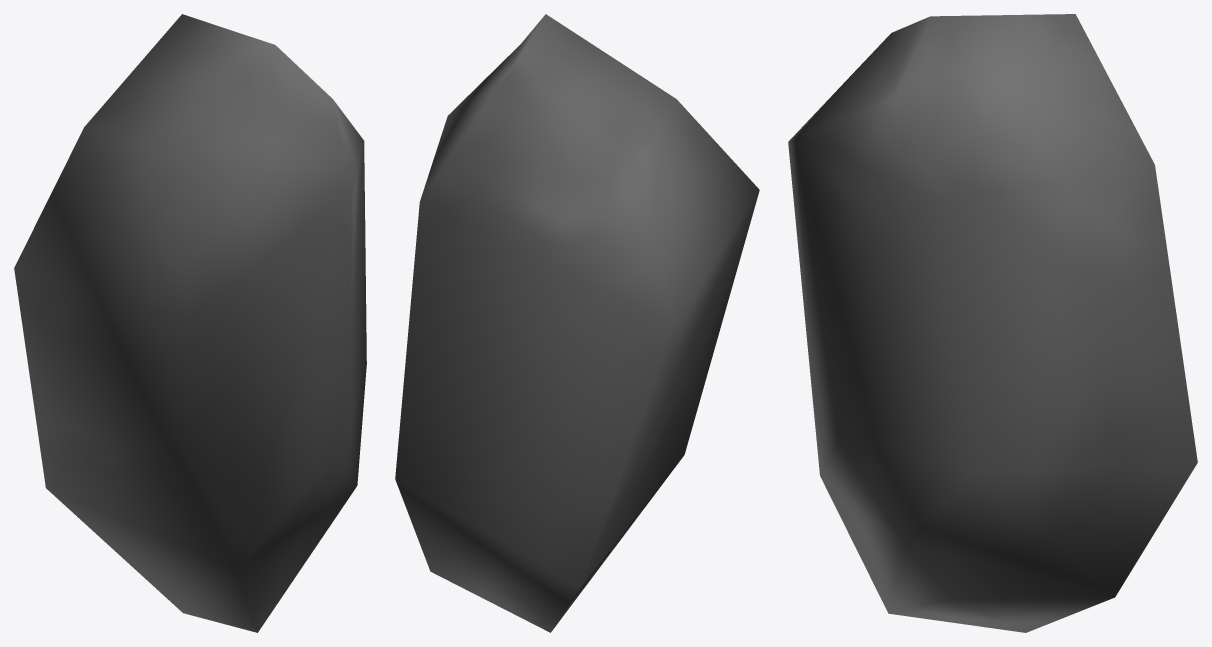
File: SM_Rocks_10.obj
3 renders of one model, left to right at view 1: azimuth 30°, elevation 25°; view 2: azimuth 150°, elevation 25°; view 3: azimuth 270°, elevation 25°, orthographic. The views are drawn at different scales.
Parts seen in each view (by area): view 1: SM_Rocks_10; view 2: SM_Rocks_10; view 3: SM_Rocks_10.
Part boxes in pixels (left/top/right/bottom): SM_Rocks_10: left=14, top=14, right=366, bottom=632; SM_Rocks_10: left=395, top=14, right=759, bottom=632; SM_Rocks_10: left=788, top=14, right=1197, bottom=632.
Bounding box in the file's own units: 0.1718 × 0.3121 × 0.1803.
1 material, 1 textured.
